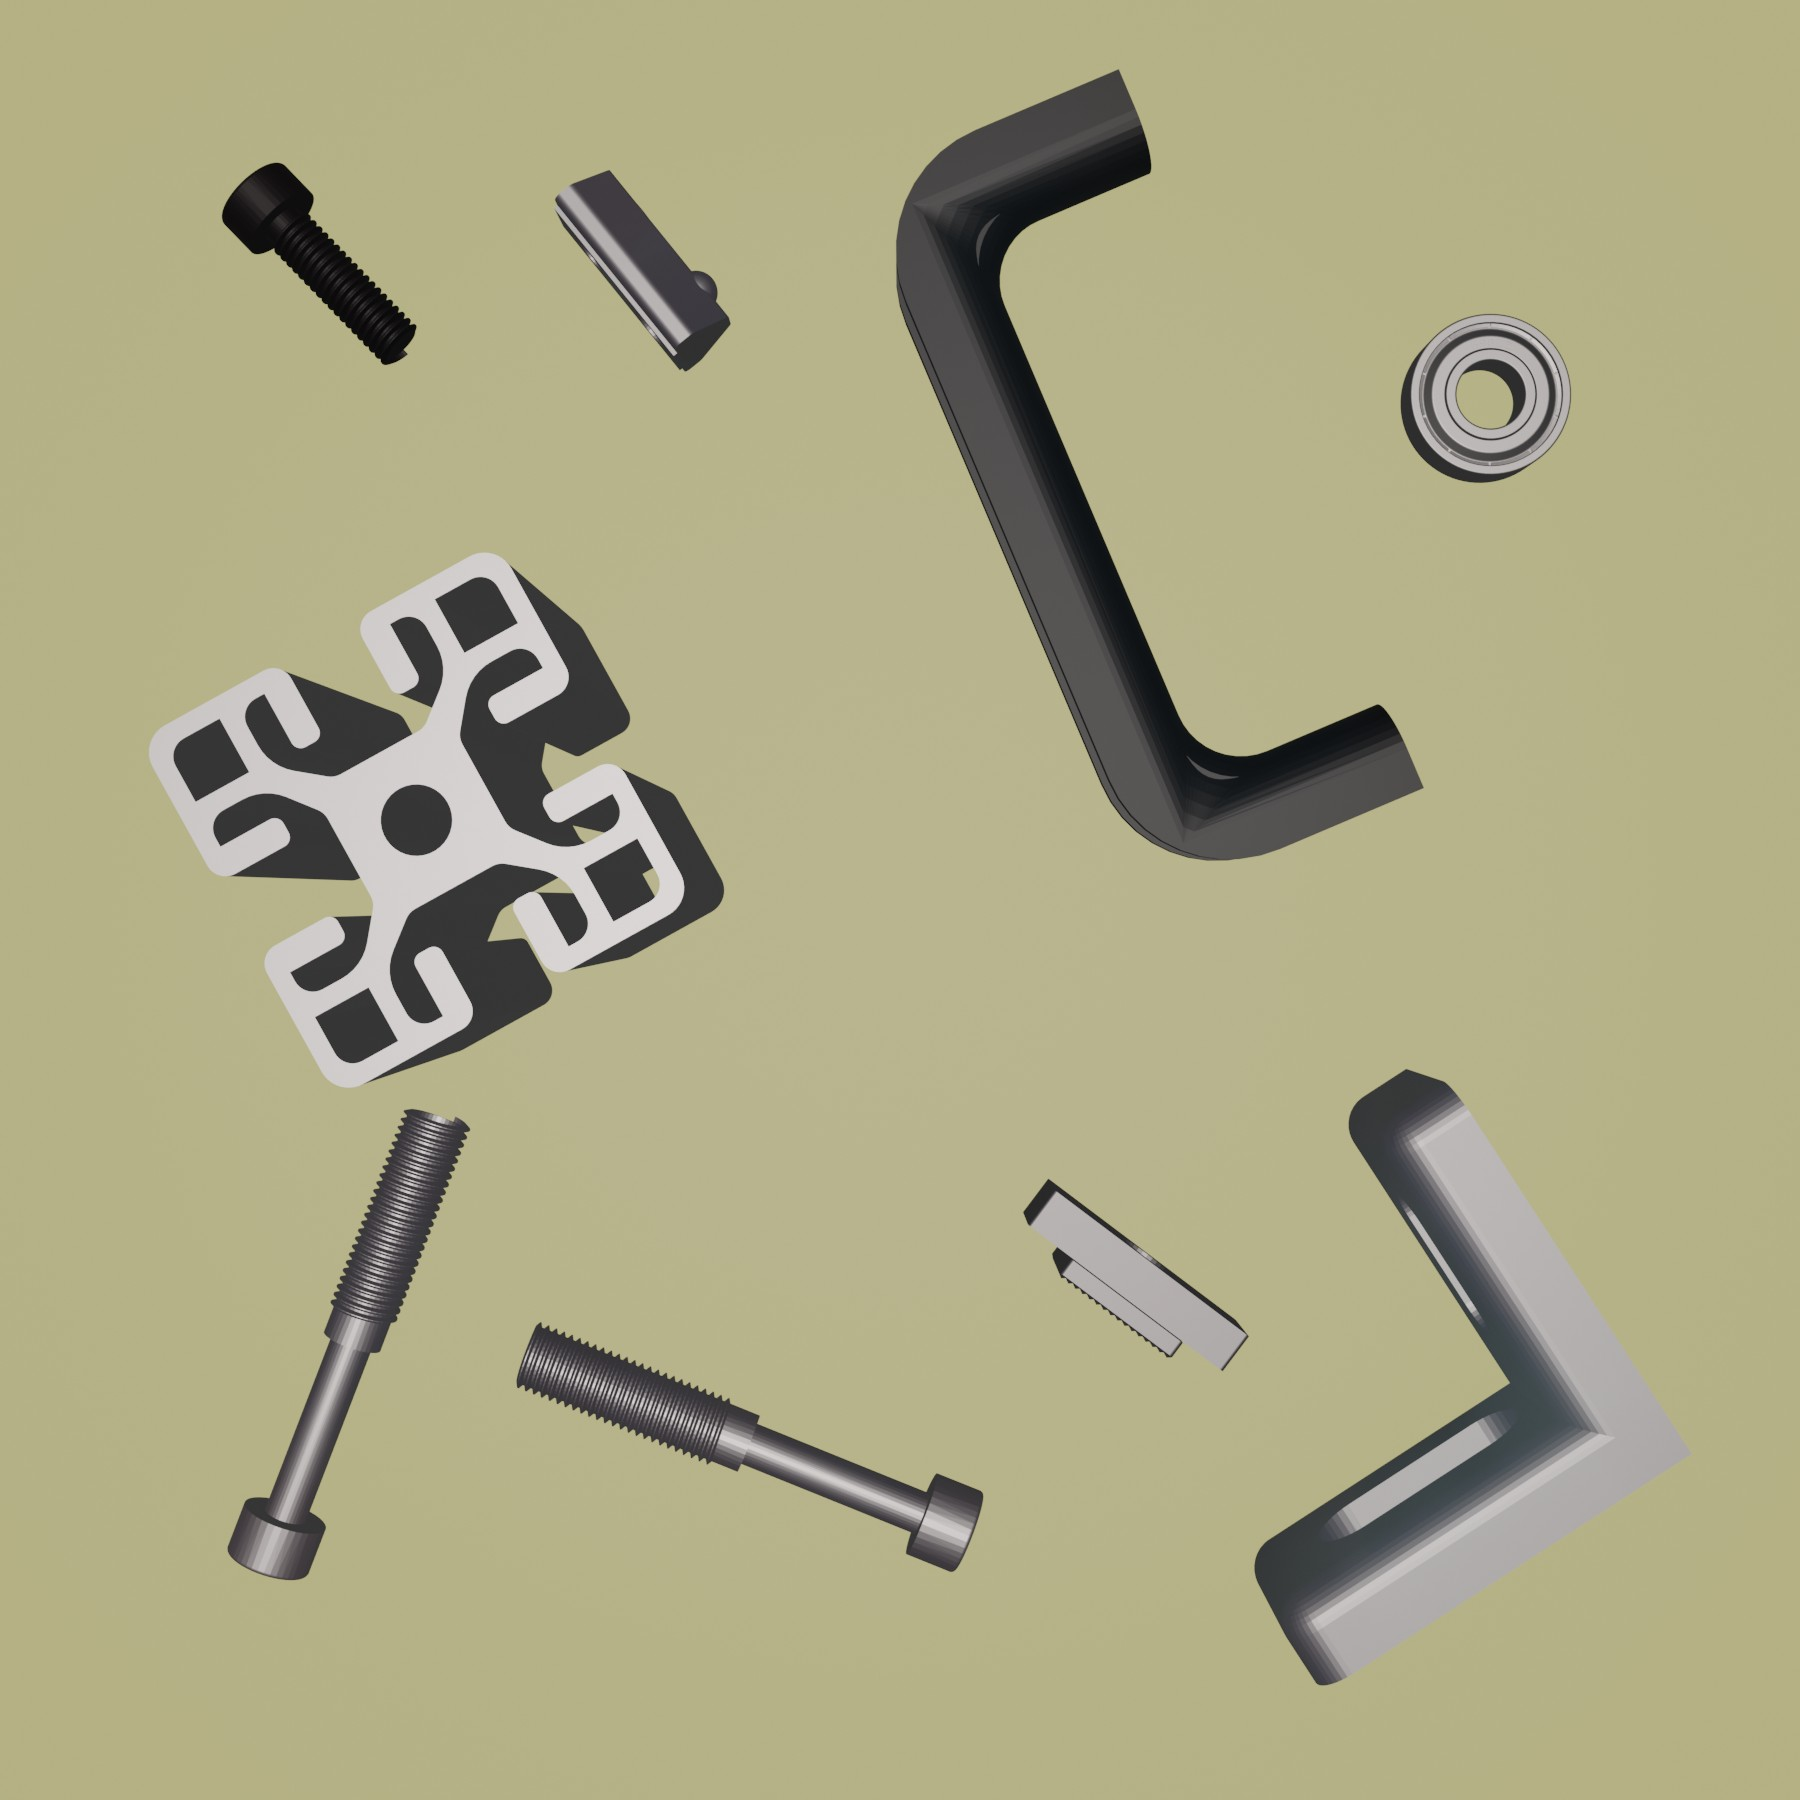Aluminium Extension: (147, 549, 725, 1095)
Ball Bearing: (1396, 308, 1574, 486)
Multiwinkel: (1251, 1063, 1696, 1686)
Pull Handle: (892, 64, 1424, 862)
Shoulder Socket Head Cap Screw: (511, 1322, 986, 1576), (224, 1104, 471, 1584)
Socket Head Cap Screw: (218, 158, 419, 368)
T Nut Square: (1019, 1174, 1248, 1378)
T Spring Nut: (551, 165, 735, 374)
